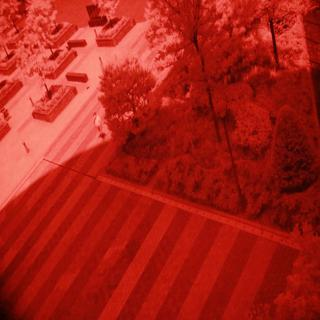person: (86, 103, 110, 153)
